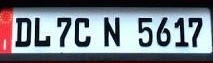character: (102, 14, 122, 47), (73, 16, 92, 48), (14, 15, 32, 47), (33, 15, 51, 47), (186, 15, 203, 47), (56, 15, 72, 48), (155, 16, 172, 47), (137, 15, 153, 47), (173, 16, 189, 47)
